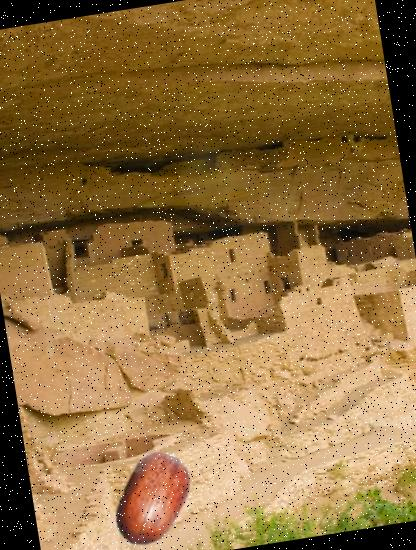Nut: (96, 443, 209, 550)
